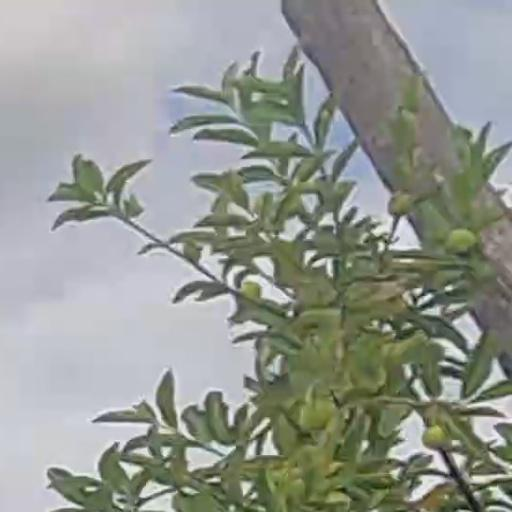acerola_verde: (302, 401, 332, 426), (423, 425, 450, 449)
